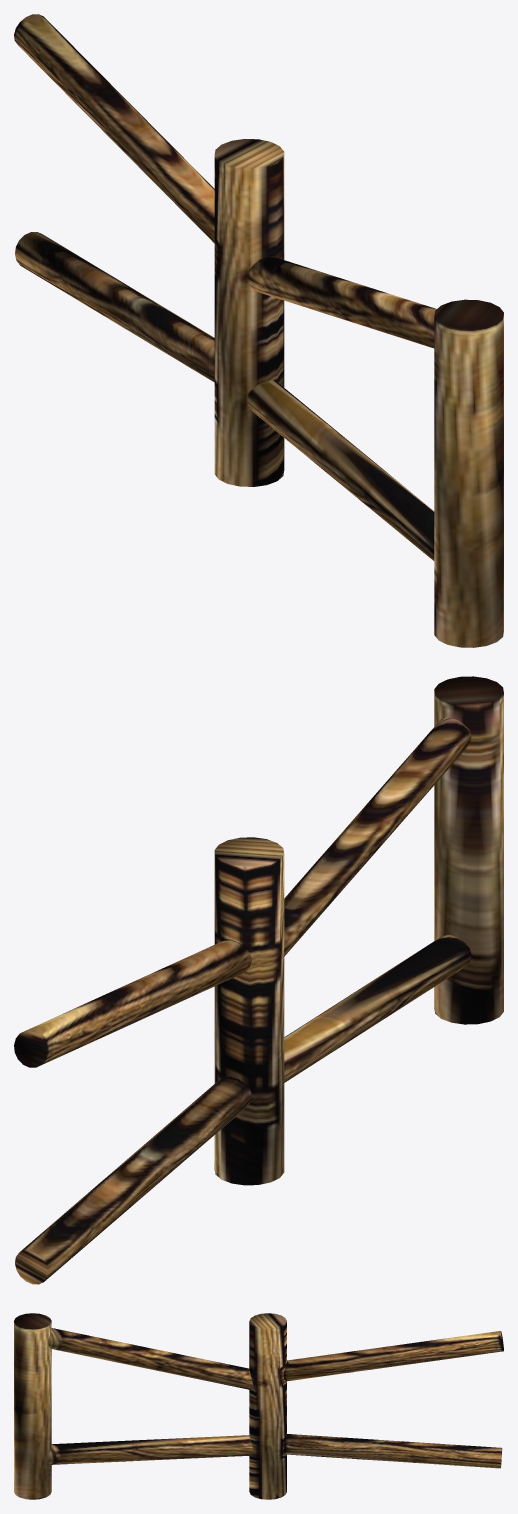
File: fence.gltf
3 views of the same model, one above another, from view 1: azimuth 30°, elevation 25°; view 2: azimuth 150°, elevation 25°; view 3: azimuth 270°, elevation 25° (orthographic). The views are drawn at different scales.
Parts seen in each view (by area): view 1: Cylinder.005; view 2: Cylinder.005; view 3: Cylinder.005.
Boxes of the visible parts, x1,y1,x2,y2 form: Cylinder.005: [14, 14, 503, 647]; Cylinder.005: [14, 676, 503, 1284]; Cylinder.005: [14, 1313, 503, 1499].
Size of the model in its own units: 0.8 by 4 by 10.41.
1 material, 1 textured.
